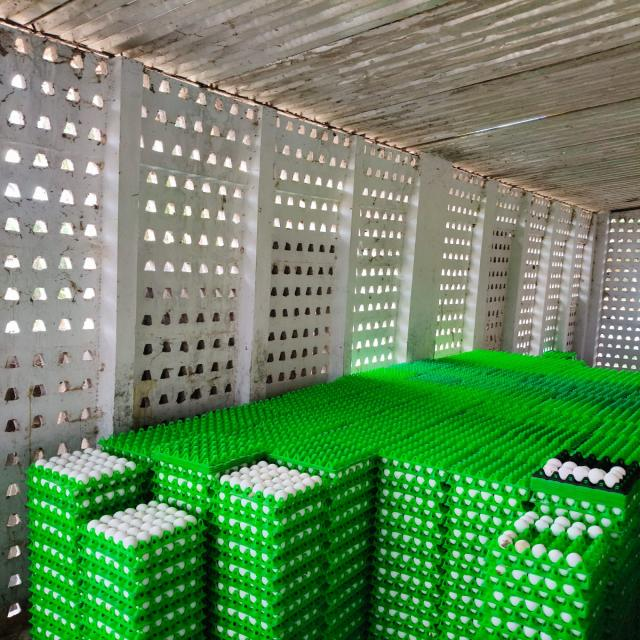egg_tray: (134, 72, 258, 423), (264, 114, 352, 395), (214, 460, 325, 636), (215, 463, 325, 616), (217, 482, 325, 625), (82, 503, 204, 626), (29, 449, 138, 583), (439, 476, 528, 635), (485, 512, 610, 619), (212, 460, 325, 569), (374, 456, 444, 600), (123, 407, 263, 479), (81, 501, 203, 583), (451, 416, 579, 489), (482, 567, 607, 640), (81, 557, 204, 624), (441, 491, 529, 582), (214, 460, 325, 530), (82, 576, 205, 638), (481, 564, 606, 625), (149, 407, 261, 475), (430, 407, 532, 481), (83, 501, 202, 563), (28, 493, 134, 561), (492, 510, 607, 572), (28, 448, 143, 508), (151, 411, 257, 475), (582, 514, 639, 630), (376, 458, 447, 550), (82, 551, 205, 604), (274, 418, 370, 485), (214, 562, 323, 621), (171, 416, 276, 477), (532, 450, 639, 508), (442, 501, 526, 574), (479, 591, 601, 640), (82, 592, 205, 640), (297, 412, 379, 483), (323, 459, 377, 565), (99, 414, 210, 464), (212, 559, 323, 608), (214, 574, 322, 624), (79, 598, 205, 640), (203, 424, 277, 493), (27, 488, 129, 537), (533, 491, 638, 538), (151, 452, 221, 522), (151, 431, 217, 503), (217, 458, 323, 502), (324, 472, 376, 561), (27, 499, 79, 588), (215, 532, 325, 574), (375, 492, 445, 556), (316, 458, 377, 526), (480, 606, 602, 640), (444, 491, 529, 539), (213, 604, 325, 640), (604, 518, 639, 632), (438, 548, 484, 634), (373, 523, 443, 578), (220, 559, 323, 595), (534, 494, 629, 532), (28, 536, 80, 603), (323, 552, 372, 623), (442, 501, 504, 557), (541, 452, 632, 490), (602, 534, 639, 627), (604, 542, 639, 640), (28, 503, 84, 564), (152, 461, 214, 516), (450, 473, 530, 515), (27, 509, 78, 574), (371, 570, 440, 618), (322, 556, 370, 624), (374, 507, 444, 553), (374, 553, 441, 601), (323, 503, 373, 565), (378, 457, 448, 501), (324, 576, 371, 640), (378, 458, 447, 501), (211, 614, 325, 640), (445, 501, 527, 537), (374, 544, 441, 588), (445, 502, 529, 537), (98, 425, 167, 467), (377, 491, 445, 533), (30, 586, 82, 640), (30, 544, 79, 601), (326, 474, 377, 528), (449, 472, 527, 506), (372, 583, 438, 623), (323, 564, 369, 621), (324, 548, 370, 604), (379, 485, 447, 522), (29, 568, 83, 614), (373, 523, 442, 559), (28, 598, 86, 640), (28, 506, 79, 552), (441, 540, 485, 593), (28, 601, 86, 640), (438, 567, 483, 617), (379, 456, 447, 489), (30, 586, 83, 628), (372, 567, 437, 601), (438, 591, 483, 640), (151, 480, 210, 517), (597, 509, 639, 560), (154, 460, 215, 495), (29, 601, 83, 640), (438, 572, 484, 617), (367, 610, 434, 640), (369, 609, 433, 640), (324, 597, 368, 640), (154, 487, 208, 521), (29, 608, 83, 640), (438, 563, 484, 600), (98, 438, 154, 468), (322, 457, 377, 487), (611, 511, 639, 569), (369, 615, 424, 640), (439, 611, 482, 640), (603, 605, 638, 640), (271, 463, 291, 480), (509, 503, 525, 517), (396, 566, 412, 575), (254, 465, 267, 476), (263, 427, 275, 438), (614, 632, 633, 638), (485, 414, 494, 424), (238, 466, 252, 472), (617, 633, 632, 638), (321, 550, 326, 563), (221, 474, 229, 482), (377, 572, 389, 577), (309, 415, 317, 422), (604, 529, 609, 539), (525, 559, 532, 566), (201, 433, 207, 440), (452, 484, 460, 489), (149, 428, 153, 437), (379, 421, 383, 429), (263, 477, 269, 482), (285, 450, 291, 455), (36, 566, 43, 570), (477, 482, 481, 488), (479, 540, 485, 544), (451, 480, 457, 484), (72, 636, 78, 640), (267, 484, 272, 488), (293, 449, 297, 454), (320, 398, 325, 402), (32, 556, 36, 561), (252, 482, 257, 486), (190, 464, 195, 468), (455, 533, 460, 537), (455, 532, 459, 537), (628, 465, 631, 471), (318, 398, 324, 401), (117, 436, 123, 439), (245, 471, 249, 475), (455, 533, 459, 537), (253, 475, 258, 478), (299, 470, 304, 473), (634, 465, 637, 470), (350, 549, 355, 552), (523, 603, 526, 608), (67, 636, 74, 638), (75, 634, 82, 636), (298, 471, 305, 473), (76, 634, 83, 636), (235, 476, 241, 478), (307, 476, 310, 480), (93, 512, 97, 515), (634, 622, 636, 628), (430, 576, 433, 580), (270, 495, 274, 498), (630, 607, 634, 610), (30, 618, 32, 624), (283, 436, 286, 440), (218, 418, 222, 421), (481, 540, 485, 543), (485, 480, 488, 484), (245, 475, 250, 477), (445, 555, 450, 557), (254, 482, 257, 485), (316, 476, 319, 479), (302, 476, 305, 479), (52, 506, 55, 509), (388, 567, 391, 570), (457, 565, 460, 568), (451, 496, 454, 499), (150, 430, 153, 433), (287, 429, 290, 432), (276, 427, 279, 430), (478, 483, 481, 486), (270, 495, 272, 499), (264, 528, 268, 530), (498, 565, 504, 566), (279, 462, 282, 464), (346, 249, 348, 252), (244, 569, 247, 571), (234, 565, 237, 567), (512, 498, 515, 500), (260, 533, 263, 535), (478, 486, 481, 488), (92, 547, 97, 548), (292, 463, 296, 464), (253, 140, 254, 144), (92, 624, 94, 626), (237, 424, 239, 426), (231, 407, 235, 408), (36, 615, 38, 617), (95, 638, 97, 640), (499, 502, 501, 504), (514, 448, 516, 450), (69, 638, 71, 640), (294, 474, 295, 477), (323, 475, 324, 478), (438, 492, 441, 493), (155, 635, 158, 636), (474, 433, 475, 436), (258, 427, 261, 428), (254, 425, 257, 426), (290, 494, 292, 495), (238, 486, 239, 488), (380, 569, 381, 571), (286, 458, 288, 459), (603, 563, 605, 564), (89, 512, 91, 513), (310, 470, 312, 471), (462, 634, 464, 635), (194, 456, 196, 457), (93, 622, 94, 624), (96, 638, 97, 640), (203, 469, 205, 470), (467, 536, 468, 538), (614, 634, 615, 636), (139, 432, 141, 433), (461, 409, 463, 410), (65, 638, 66, 640), (298, 476, 299, 477), (403, 560, 404, 561), (318, 385, 319, 386), (454, 567, 455, 568), (635, 529, 636, 530), (291, 436, 292, 437), (363, 620, 363, 621), (129, 432, 133, 432), (504, 592, 506, 592), (212, 448, 215, 448), (220, 430, 222, 430), (602, 528, 603, 528), (201, 616, 201, 619), (316, 488, 316, 489), (292, 485, 292, 486), (296, 483, 297, 483), (332, 332, 332, 332), (494, 490, 494, 490), (472, 490, 473, 490), (94, 514, 95, 514), (474, 572, 474, 572), (211, 414, 213, 414), (259, 438, 259, 439), (241, 568, 242, 568), (636, 512, 636, 512), (269, 636, 270, 636)
